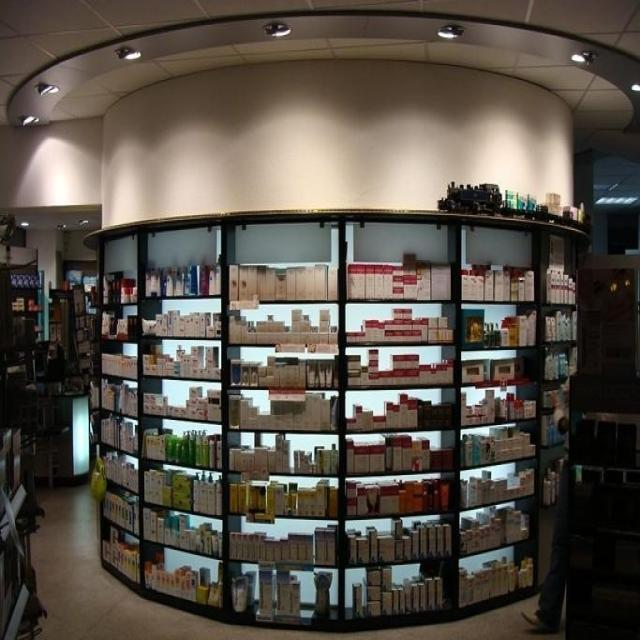Medical Waste: (1, 241, 579, 640)
